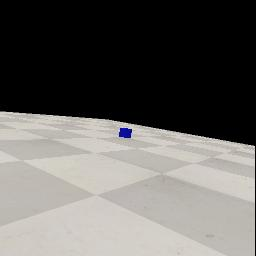box: (119, 128, 132, 138)
